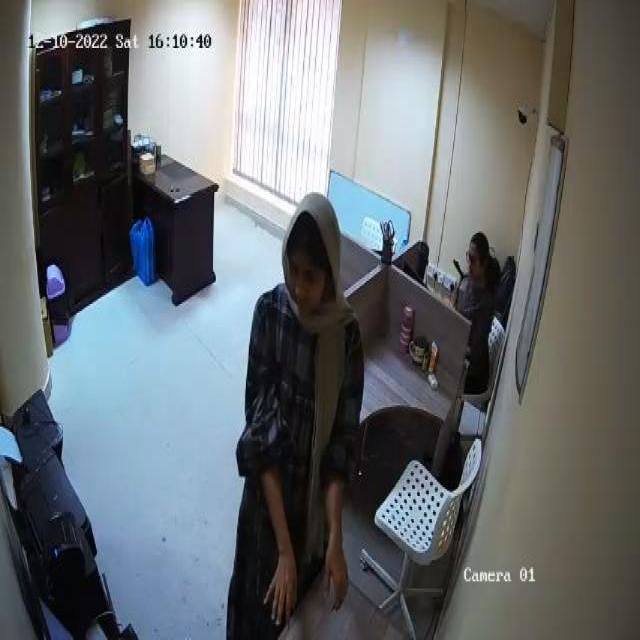bare_hand: (265, 555, 298, 635), (324, 551, 350, 612)
